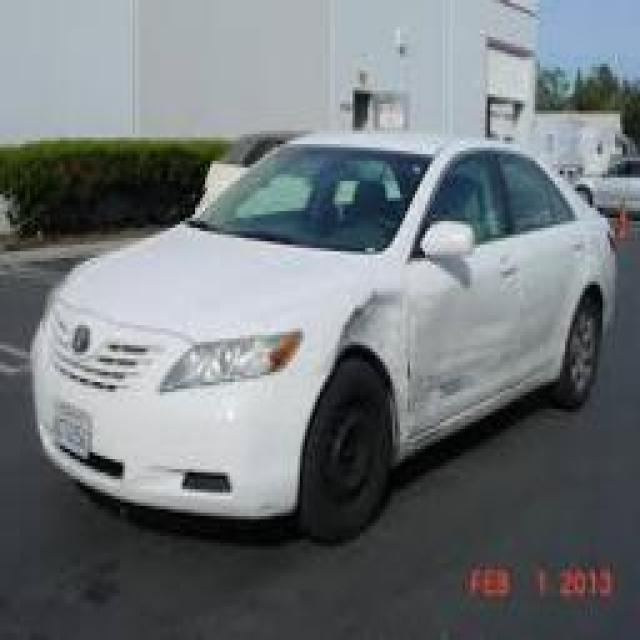rapairable: (340, 287, 410, 382), (430, 364, 476, 426)
